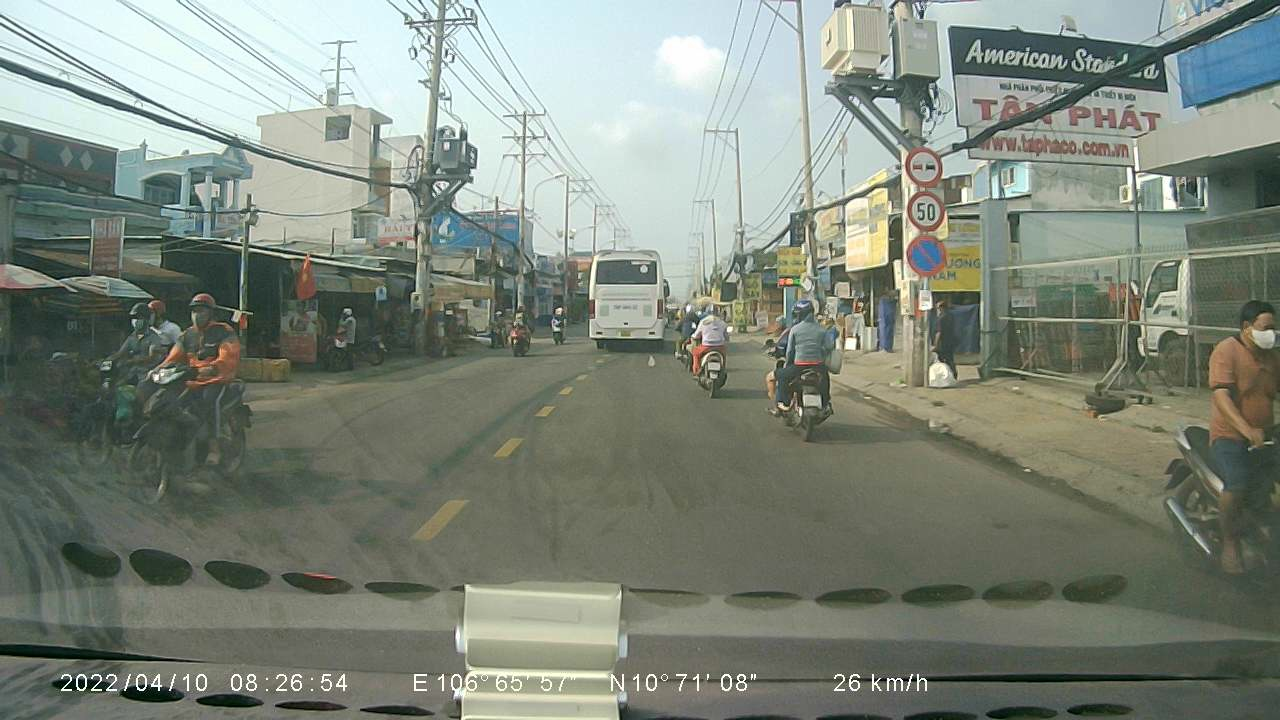Bien khac: (904, 143, 942, 187), (908, 186, 945, 229)
Cam do xe: (903, 232, 951, 280)
